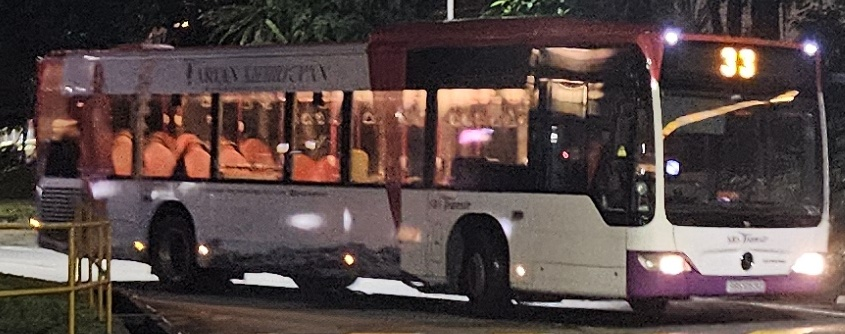bus: (707, 40, 763, 84)
